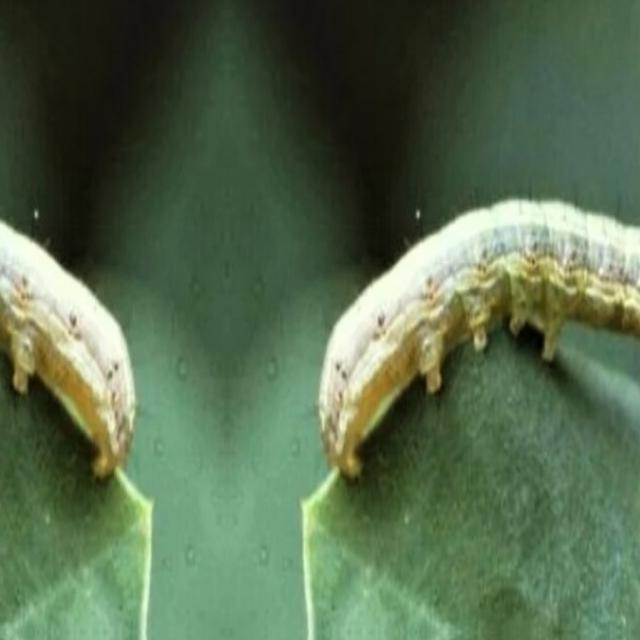armyworm: (317, 194, 639, 484), (0, 207, 137, 482)
